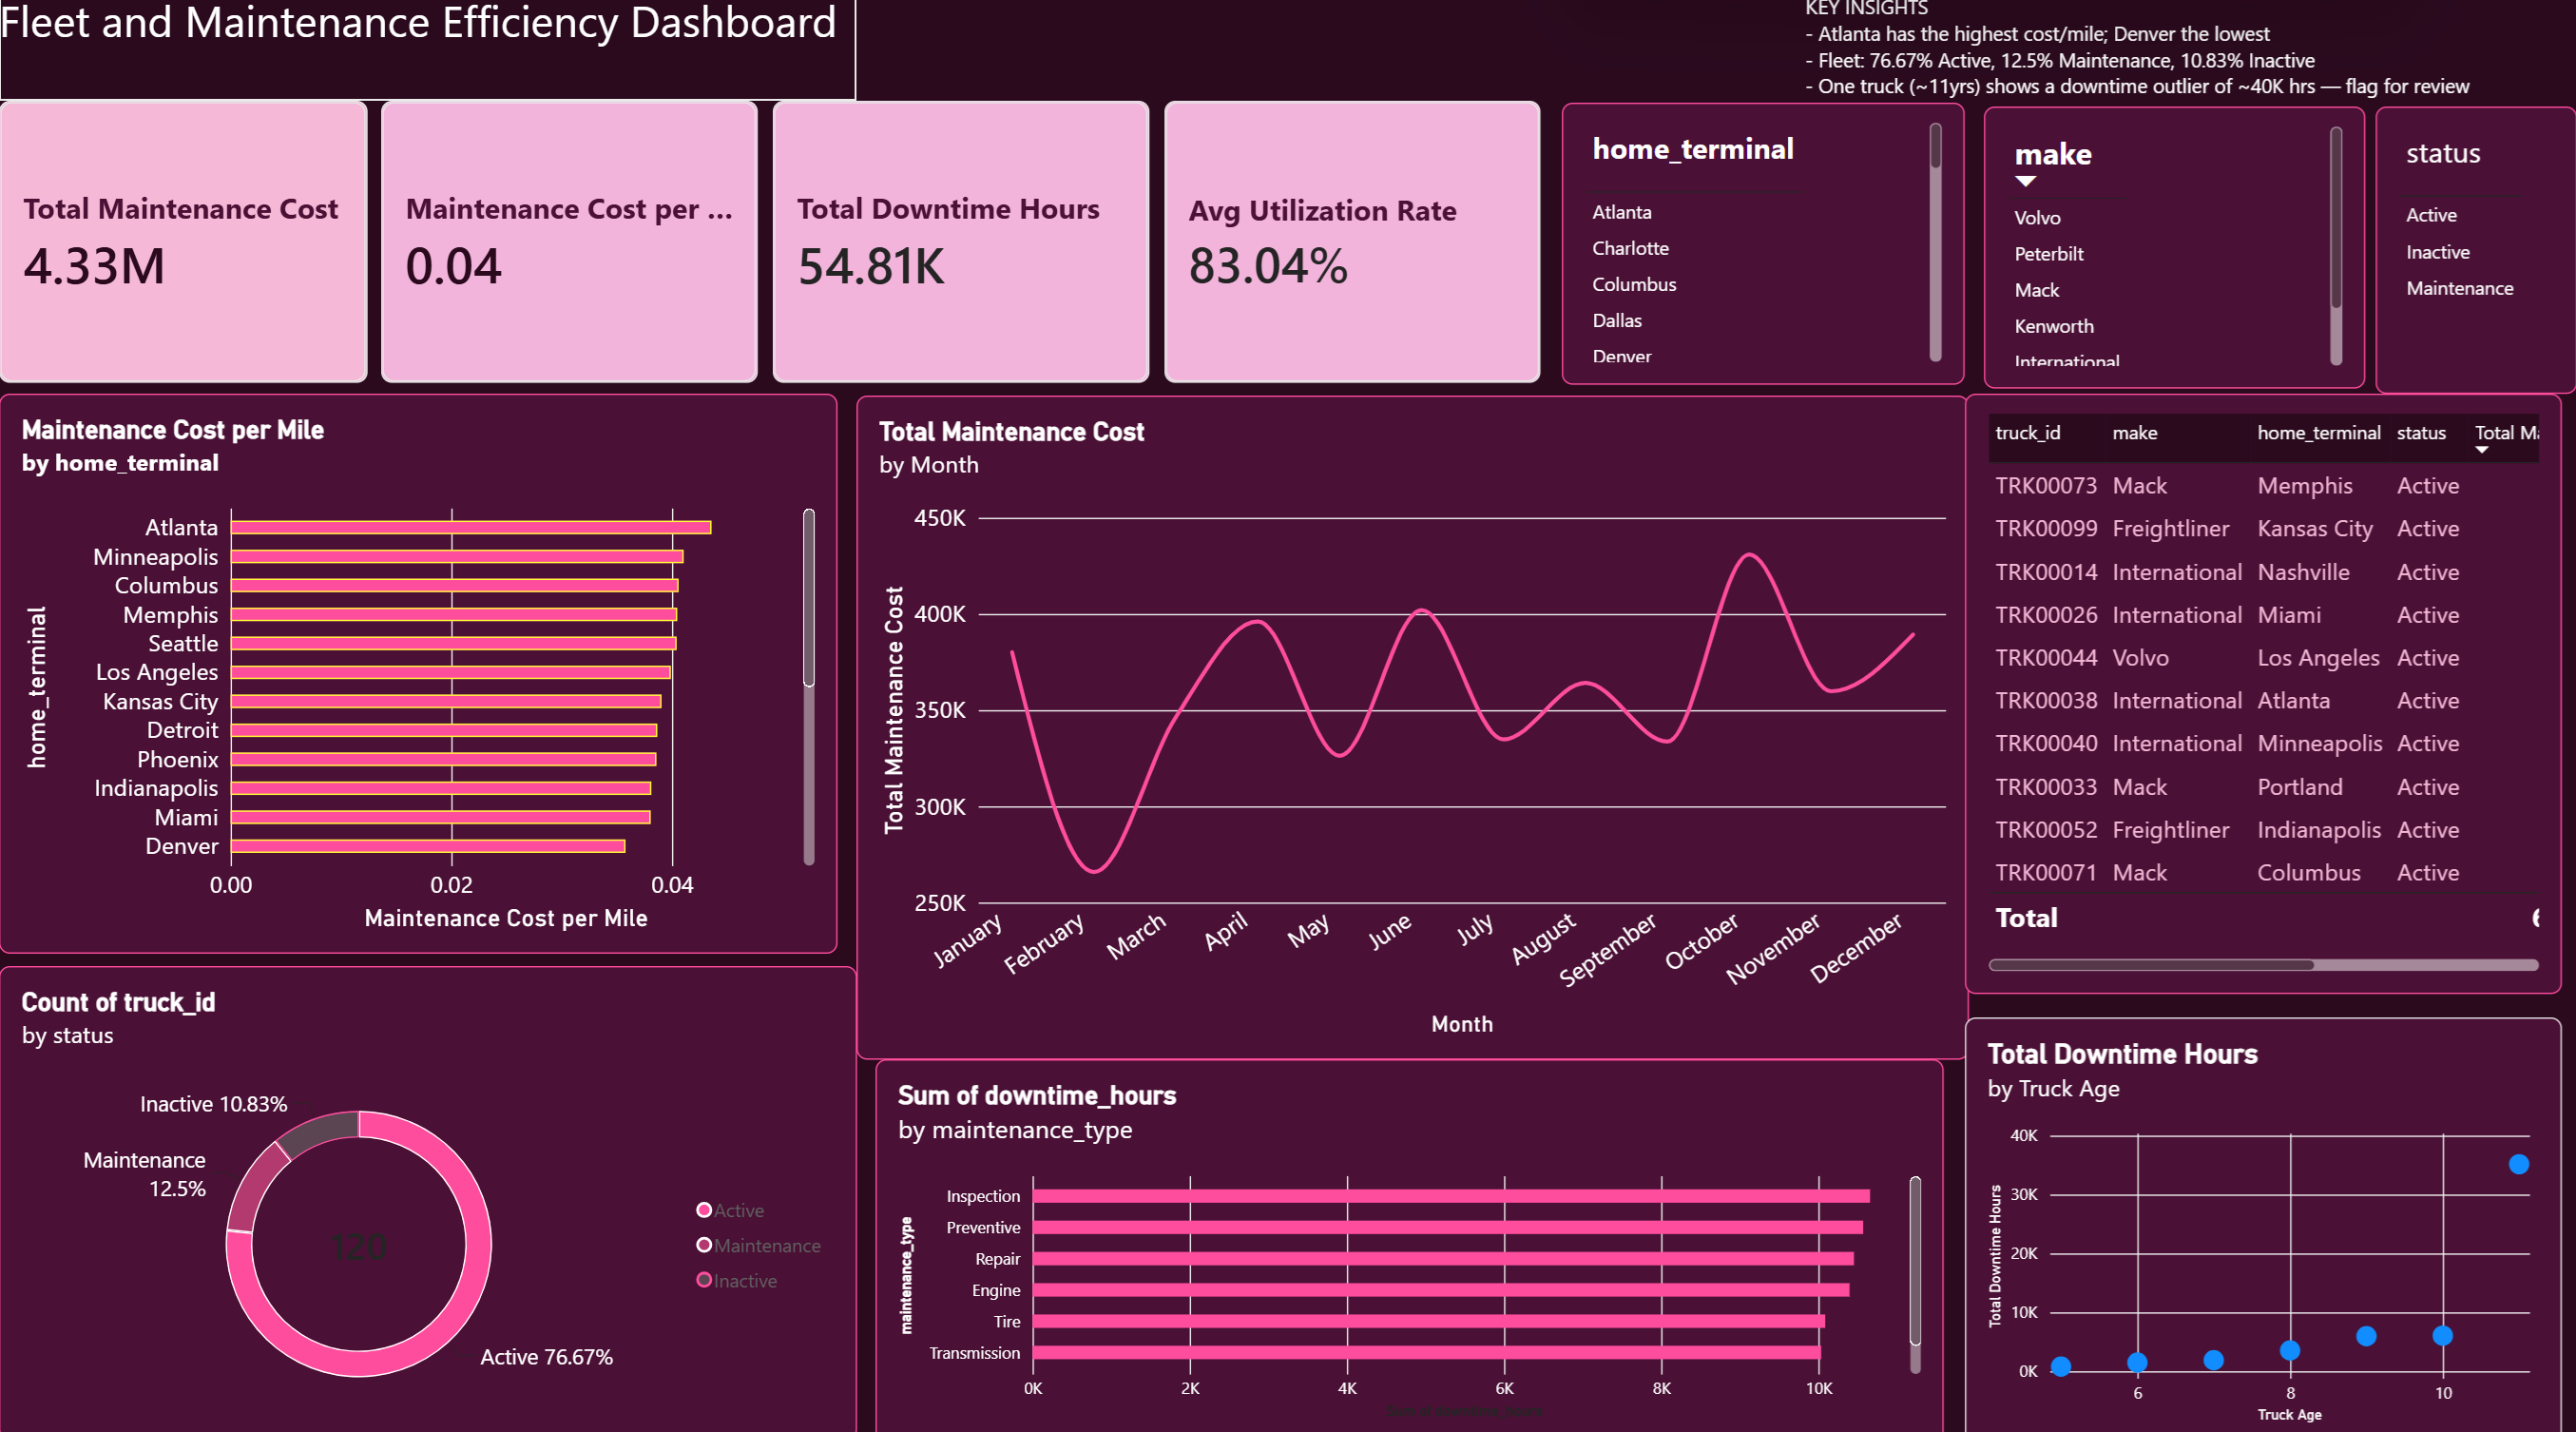

The dashboard page shown, as its layout file describes it:
{"tool":"powerbi","page":{"name":"Page 1","canvas":[1920,1080],"ordinal":0},"visuals":[{"type":"textbox","box":[0,0,638.6,81.4],"z":0},{"type":"cardVisual","fields":{"Data":["truck_utilization_metrics.Total Maintenance Cost"]},"box":[0,81.4,274.3,210],"z":0,"group":"g1"},{"type":"group","id":"g1","title":"Group 1","box":[0,81.4,1147.9,210],"z":1000},{"type":"cardVisual","fields":{"Data":["truck_utilization_metrics.Maintenance Cost per Mile"]},"box":[285,81.4,280.7,210],"z":1000,"group":"g1"},{"type":"cardVisual","fields":{"Data":["truck_utilization_metrics.Total Downtime Hours"]},"box":[576.4,81.4,280.7,210],"z":2000,"group":"g1"},{"type":"tableEx","fields":{"Values":["trucks.home_terminal"]},"box":[1164,84,300,210],"z":2000},{"type":"cardVisual","fields":{"Data":["truck_utilization_metrics.Avg Utilization Rate"]},"box":[867.9,81.4,280,210],"z":3000,"group":"g1"},{"type":"tableEx","fields":{"Values":["trucks.make"]},"box":[1478,86,284,210],"z":3000},{"type":"tableEx","fields":{"Values":["trucks.status"]},"box":[1770,86,150,214],"z":4000},{"type":"clusteredBarChart","fields":{"Category":["trucks.home_terminal"],"Y":["truck_utilization_metrics.Maintenance Cost per Mile"]},"box":[0,299.5,624.4,416.8],"z":5000},{"type":"lineChart","fields":{"Category":["truck_utilization_metrics.month.Variation.Date Hierarchy.Month"],"Y":["truck_utilization_metrics.Total Maintenance Cost"]},"box":[638.8,301.4,828.3,494.4],"z":6000},{"type":"donutChart","fields":{"Category":["trucks.status"],"Y":["CountNonNull(trucks.truck_id)"]},"box":[0,727,639,353],"z":7000},{"type":"clusteredBarChart","fields":{"Category":["maintenance_records.maintenance_type"],"Y":["Sum(maintenance_records.downtime_hours)"]},"box":[652.9,795.7,795.7,284.3],"z":8000},{"type":"tableEx","fields":{"Values":["trucks.truck_id","trucks.make","trucks.home_terminal","trucks.status","truck_utilization_metrics.Total Maintenance Cost","truck_utilization_metrics.Maintenance Cost per Mile"]},"box":[1464.3,300,444.3,447.1],"z":9000},{"type":"scatterChart","fields":{"X":["trucks.Truck Age"],"Y":["truck_utilization_metrics.Total Downtime Hours"]},"box":[1464.3,764.3,444.3,318.6],"z":10000},{"type":"textbox","box":[1345.7,0,564.3,81.4],"z":11000}]}

Visuals, with their boxes in screenshot pixels (x1, y1, x2, y2), scaled from the page's 1920x1080 canvas onto the 2576x1432 screenshot:
textbox: (x1=0, y1=0, x2=856, y2=108)
cardVisual - truck_utilization_metrics.Total Maintenance Cost: (x1=0, y1=108, x2=368, y2=386)
"Group 1" group: (x1=0, y1=108, x2=1540, y2=386)
cardVisual - truck_utilization_metrics.Maintenance Cost per Mile: (x1=382, y1=108, x2=759, y2=386)
cardVisual - truck_utilization_metrics.Total Downtime Hours: (x1=774, y1=108, x2=1150, y2=386)
tableEx - trucks.home_terminal: (x1=1562, y1=111, x2=1964, y2=390)
cardVisual - truck_utilization_metrics.Avg Utilization Rate: (x1=1164, y1=108, x2=1540, y2=386)
tableEx - trucks.make: (x1=1983, y1=114, x2=2364, y2=393)
tableEx - trucks.status: (x1=2374, y1=114, x2=2575, y2=397)
clusteredBarChart - trucks.home_terminal x truck_utilization_metrics.Maintenance Cost per Mile: (x1=0, y1=397, x2=837, y2=950)
lineChart - truck_utilization_metrics.month.Variation.Date Hierarchy.Month x truck_utilization_metrics.Total Maintenance Cost: (x1=857, y1=399, x2=1969, y2=1055)
donutChart - trucks.status x CountNonNull(trucks.truck_id): (x1=0, y1=964, x2=857, y2=1431)
clusteredBarChart - maintenance_records.maintenance_type x Sum(maintenance_records.downtime_hours): (x1=876, y1=1055, x2=1944, y2=1431)
tableEx - trucks.truck_id x trucks.make: (x1=1965, y1=397, x2=2561, y2=991)
scatterChart - trucks.Truck Age x truck_utilization_metrics.Total Downtime Hours: (x1=1965, y1=1014, x2=2561, y2=1431)
textbox: (x1=1805, y1=0, x2=2563, y2=108)
